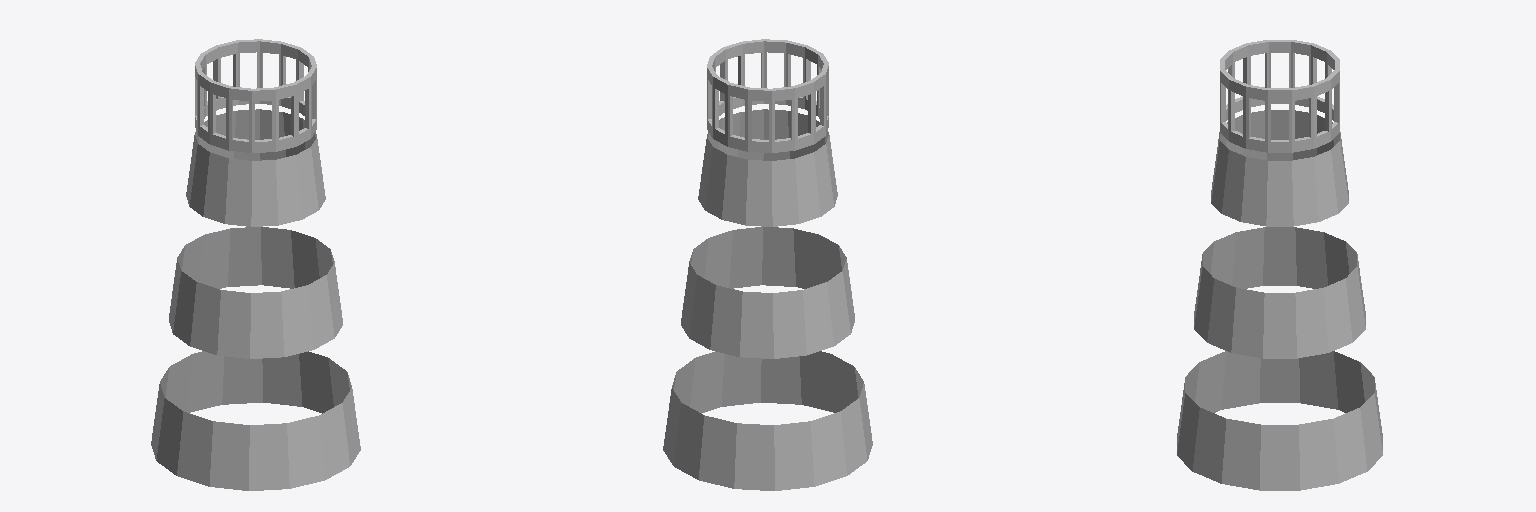
File: lighthouse_part_3.obj
3 views of the same model, side by side, from view 1: azimuth 30°, elevation 25°; view 2: azimuth 150°, elevation 25°; view 3: azimuth 270°, elevation 25° (orthographic).
Visible parts, largest first — view 1: White; view 2: White; view 3: White.
Boxes of the visible parts, <box> form: White: <box>151,39,360,490</box>; White: <box>663,39,872,490</box>; White: <box>1177,40,1382,490</box>.
Bounding box in the file's own units: 3.43 × 7 × 3.43.